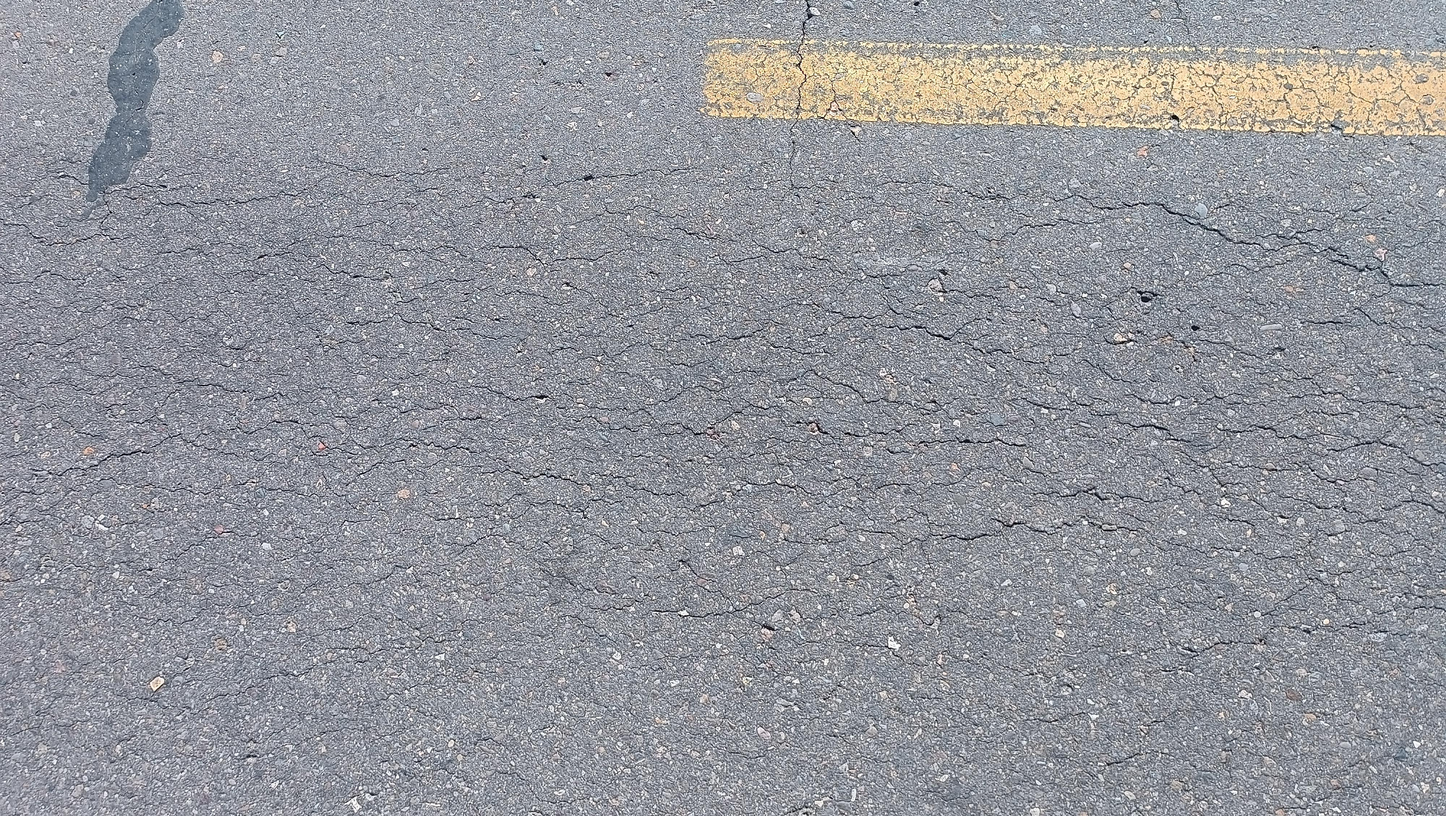GRIETA: (788, 1, 814, 180)
PIEL DE COCODRILO: (3, 147, 1446, 684)
